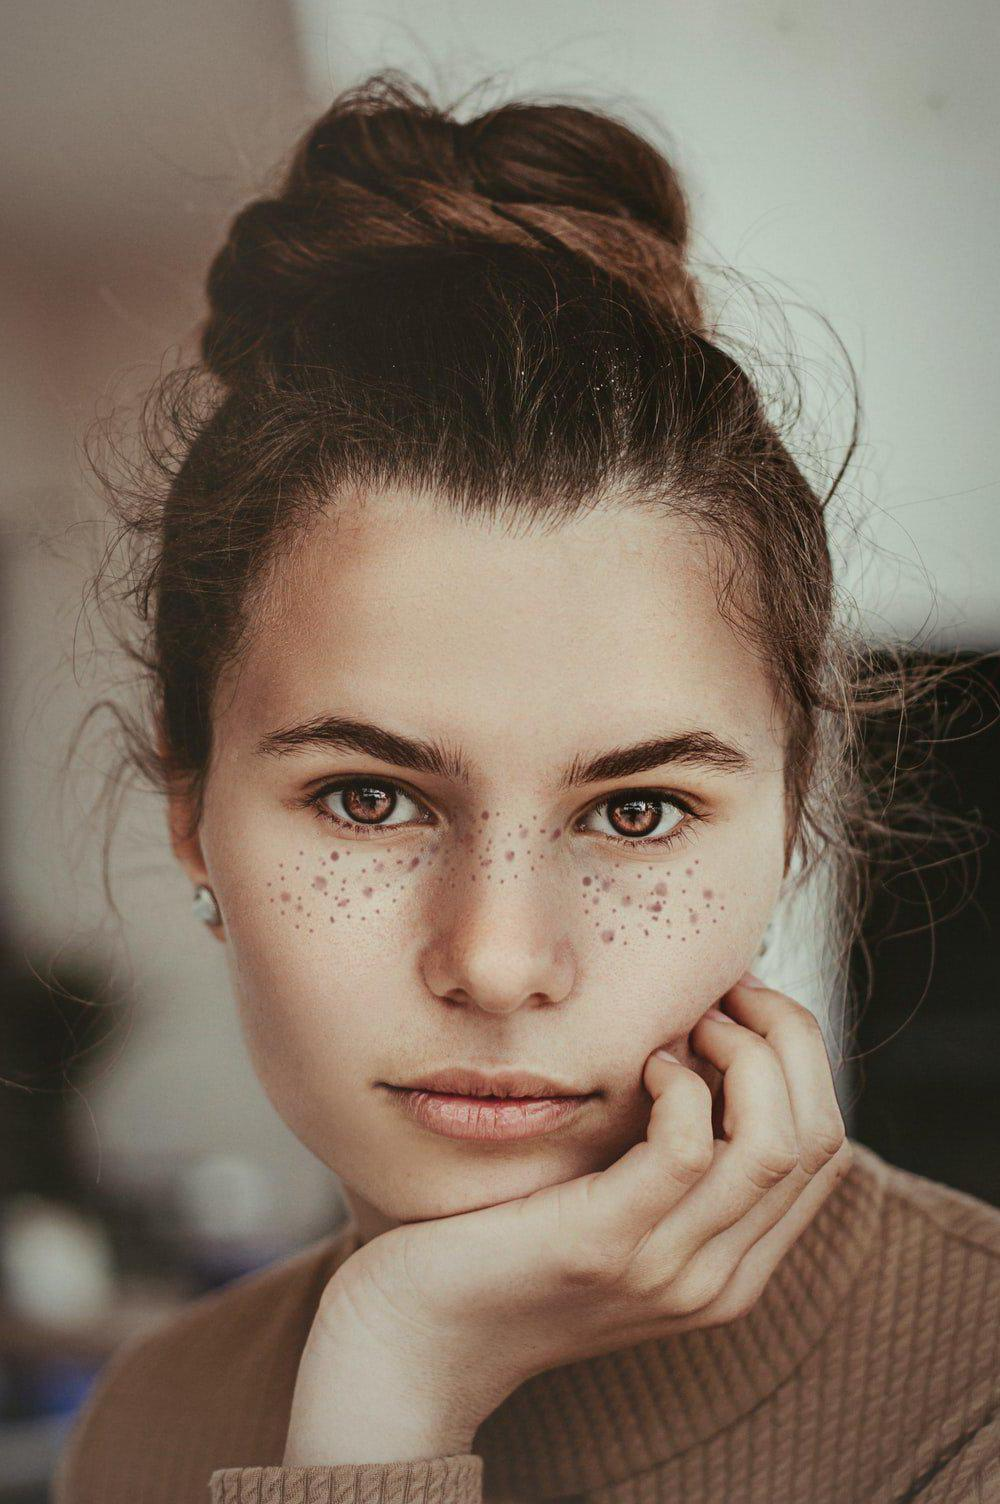Sober: (248, 531, 760, 1165)
